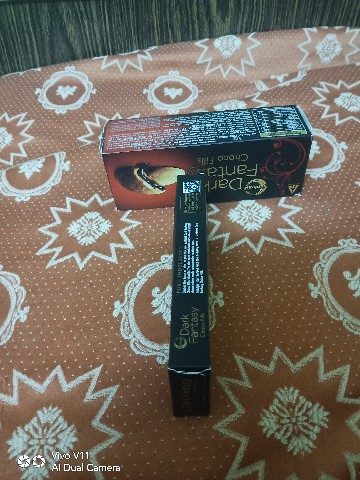darkfantasy big: (96, 74, 332, 211)
darkfantasy small: (167, 170, 218, 430)
